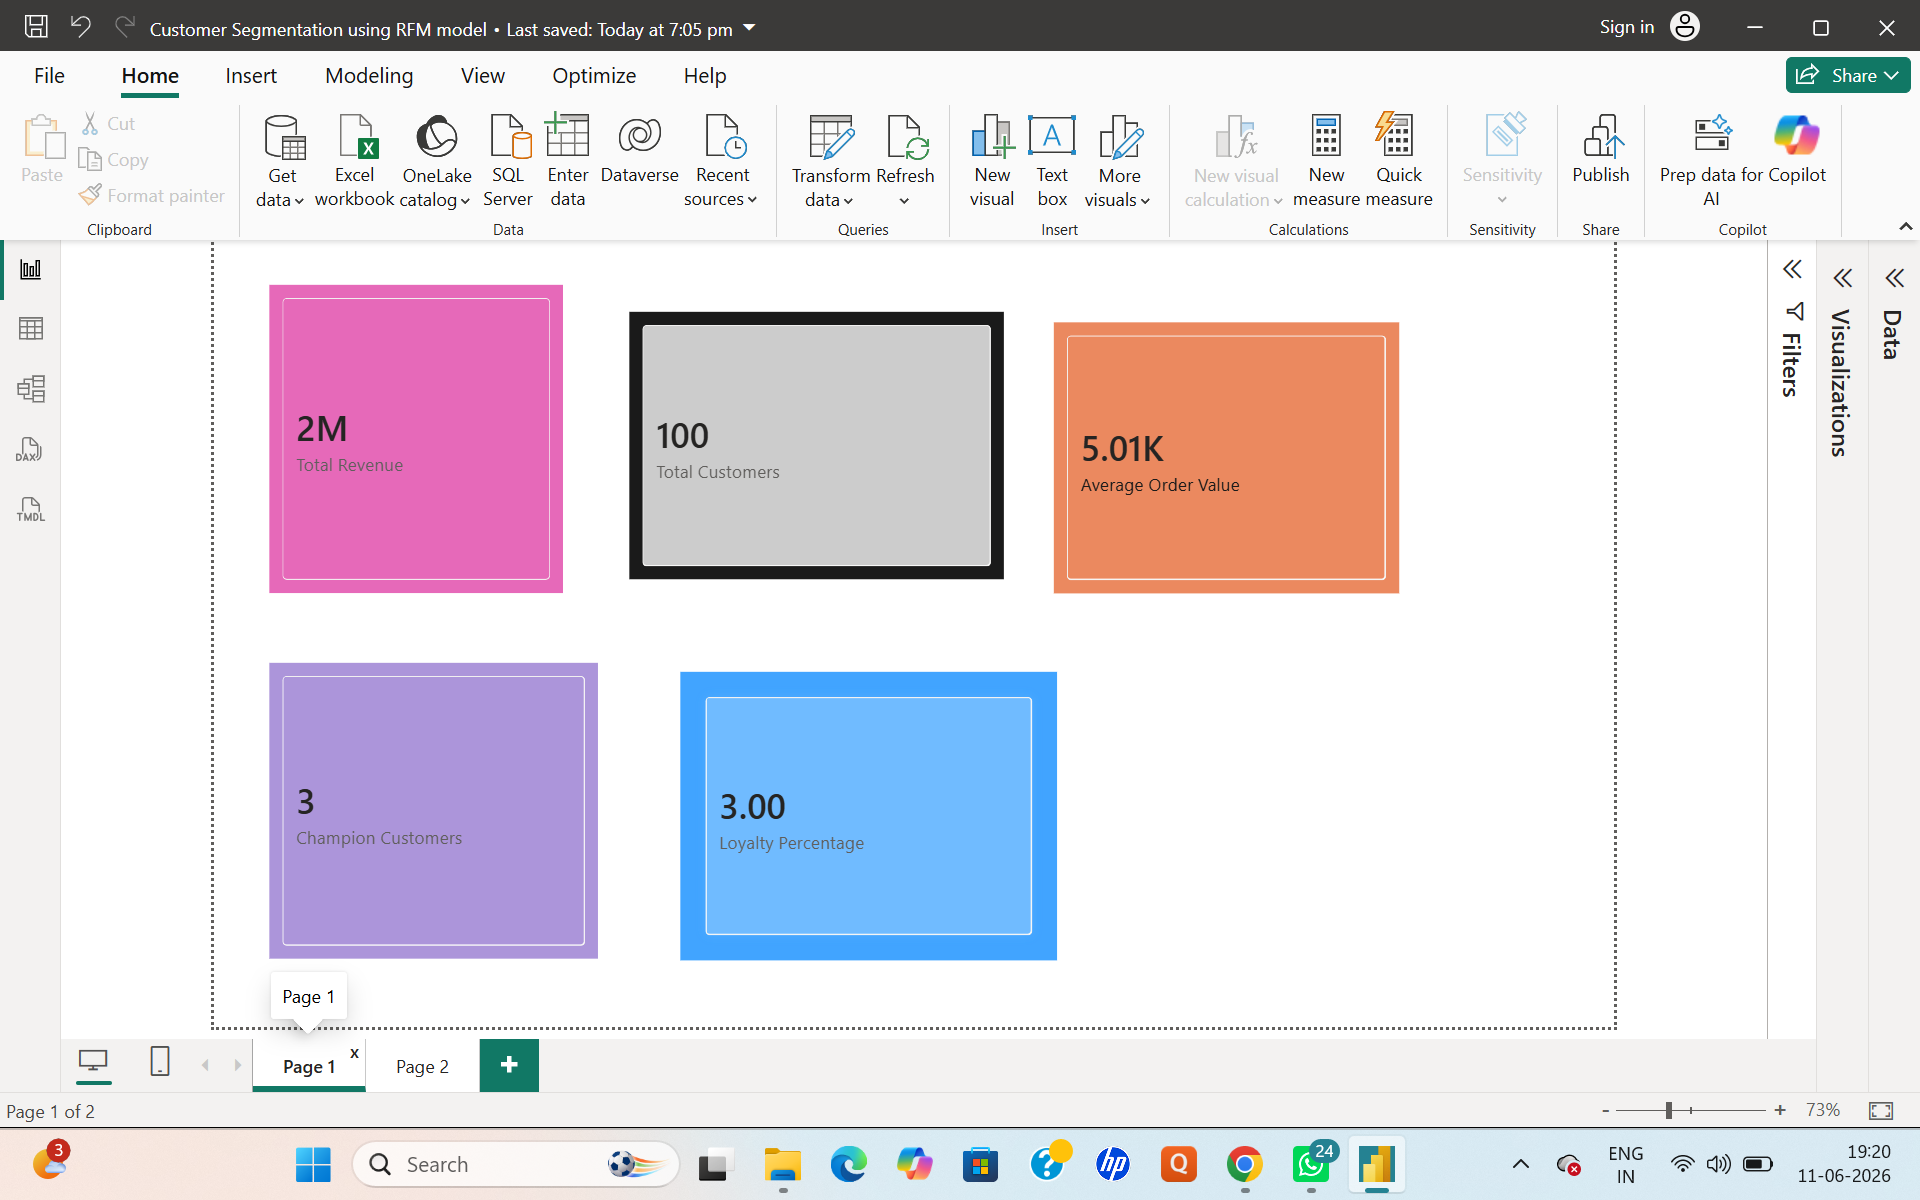

This screenshot's page, from the dashboard's own definition file:
{"tool":"powerbi","page":{"name":"Page 1","canvas":[1280,720],"ordinal":0},"visuals":[{"type":"cardVisual","fields":{"Data":["Customer_RFM_Dataset.Total Revenue"]},"box":[45.4,35.9,279.7,292.9],"z":0},{"type":"cardVisual","fields":{"Data":["Customer_RFM_Dataset.Champion Customers"]},"box":[45.4,381.7,311.8,281.6],"z":1000},{"type":"cardVisual","fields":{"Data":["Customer_RFM_Dataset.Total Customers"]},"box":[374.2,60.5,353.4,255.1],"z":2000},{"type":"cardVisual","fields":{"Data":["Customer_RFM_Dataset.Average Order Value"]},"box":[763.5,69.9,326.9,258.9],"z":3000},{"type":"cardVisual","fields":{"Data":["Customer_RFM_Dataset.Loyalty Percentage"]},"box":[421.4,389.3,355.3,274],"z":4000}]}

Visuals, with their boxes on the page's 1280x720 design canvas (x1, y1, x2, y2). These are canvas units, not pixel positions in the 1920x1200 screenshot, which may show the page scaled, cropped or inside an application window:
cardVisual - Customer_RFM_Dataset.Total Revenue: box=[45, 36, 325, 329]
cardVisual - Customer_RFM_Dataset.Champion Customers: box=[45, 382, 357, 663]
cardVisual - Customer_RFM_Dataset.Total Customers: box=[374, 60, 728, 316]
cardVisual - Customer_RFM_Dataset.Average Order Value: box=[764, 70, 1090, 329]
cardVisual - Customer_RFM_Dataset.Loyalty Percentage: box=[421, 389, 777, 663]
